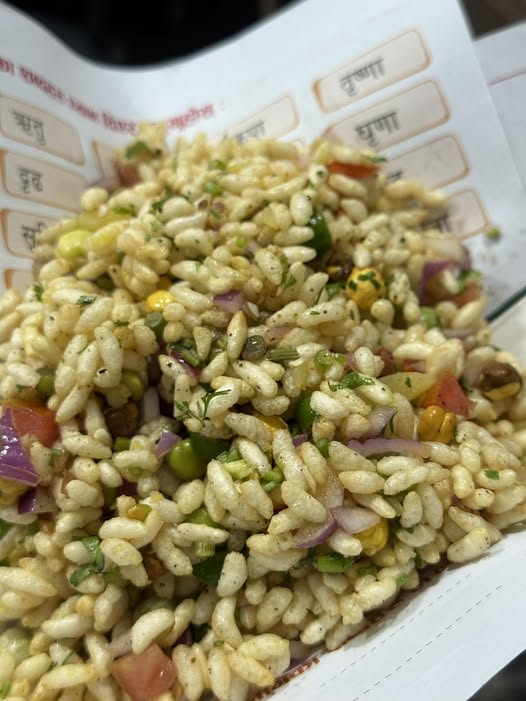chatpate: (37, 123, 497, 658)
